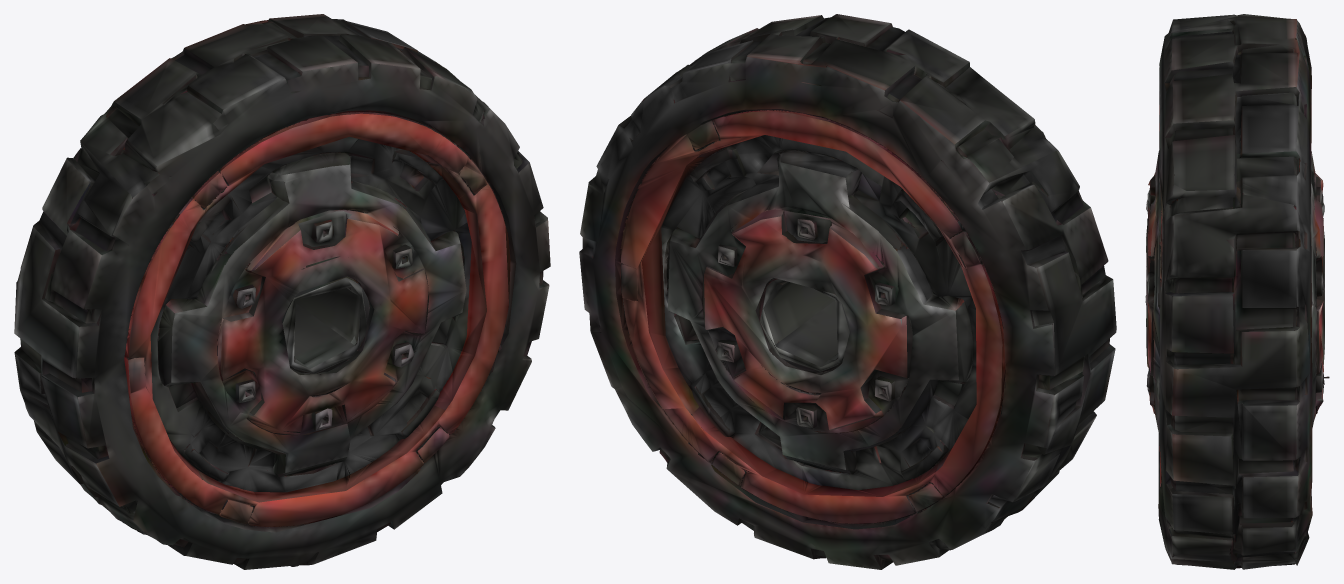
Rendered from wheel_light.glb.
The picture shows the model from 3 angles, left to right: view 1: azimuth 30°, elevation 25°; view 2: azimuth 150°, elevation 25°; view 3: azimuth 270°, elevation 25°; orthographic projection.
Parts seen in each view (by area): view 1: mesh_node; view 2: mesh_node; view 3: mesh_node.
Part boxes in pixels (<box>): mesh_node: <box>14,14,550,569</box>; mesh_node: <box>579,14,1116,569</box>; mesh_node: <box>1145,14,1329,569</box>.
Bounding box in the file's own units: 1.9 × 1.9 × 0.6263.
Materials: 1 (1 with a texture image).
